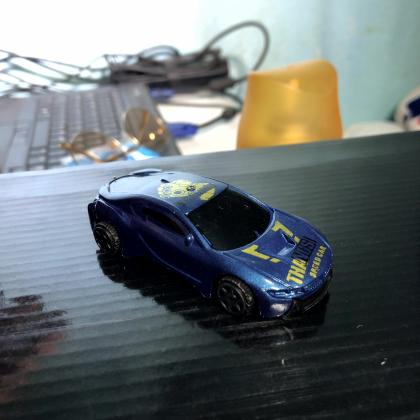Car: (86, 164, 342, 328)
